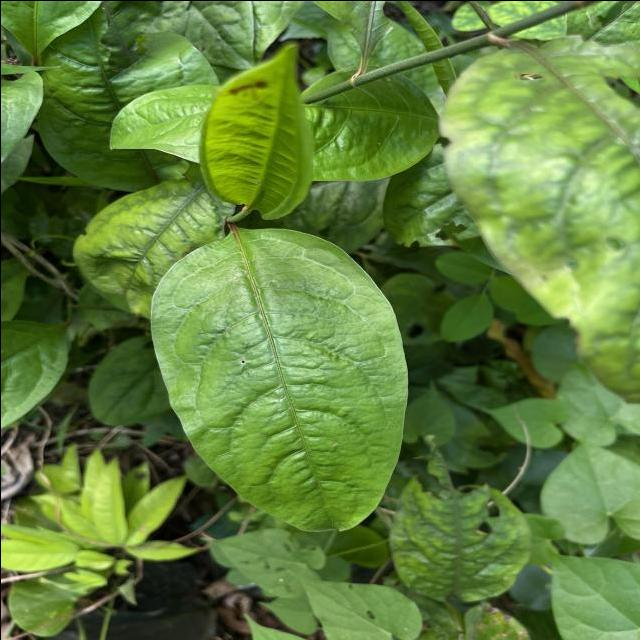Plumbago indica: (144, 221, 413, 536), (191, 36, 318, 224)
